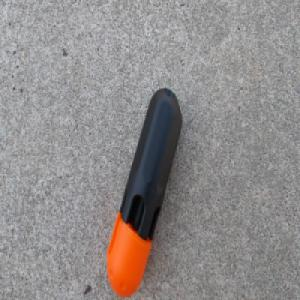PlasticPart: (106, 86, 183, 297)
